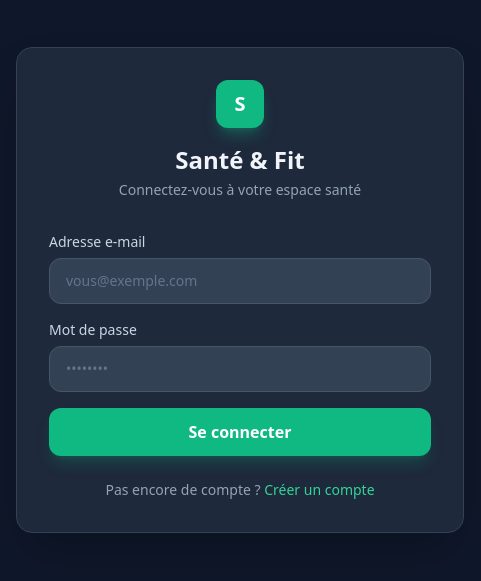
Test: LoginPage › Validation du formulaire › affiche une erreur si email et mot de passe sont vides
Click the button "Se connecter" at point(240, 432), box [49,408,431,456]
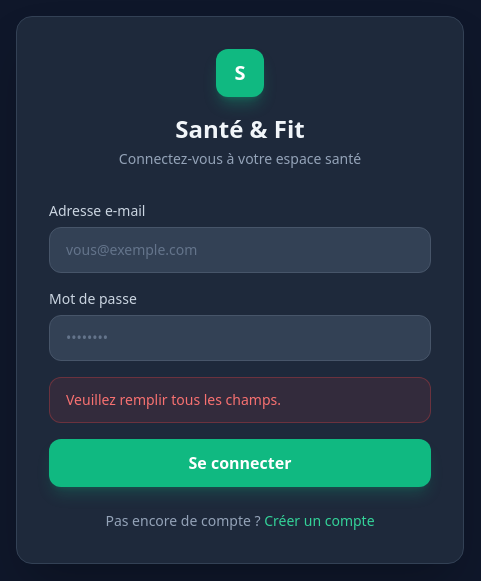
expect the text "Veuillez remplir tous les champs." is shown: met, box [49,377,431,423]
